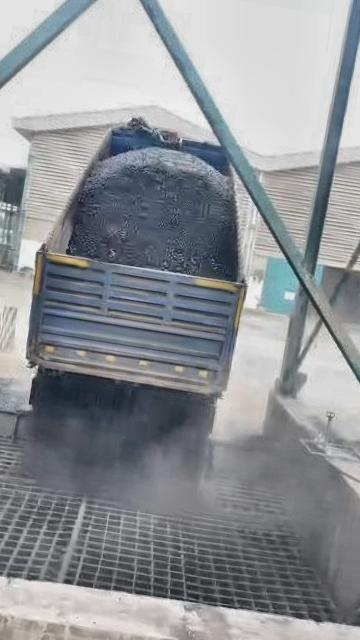gravel: (68, 148, 238, 280), (26, 373, 210, 488), (0, 371, 28, 410)
